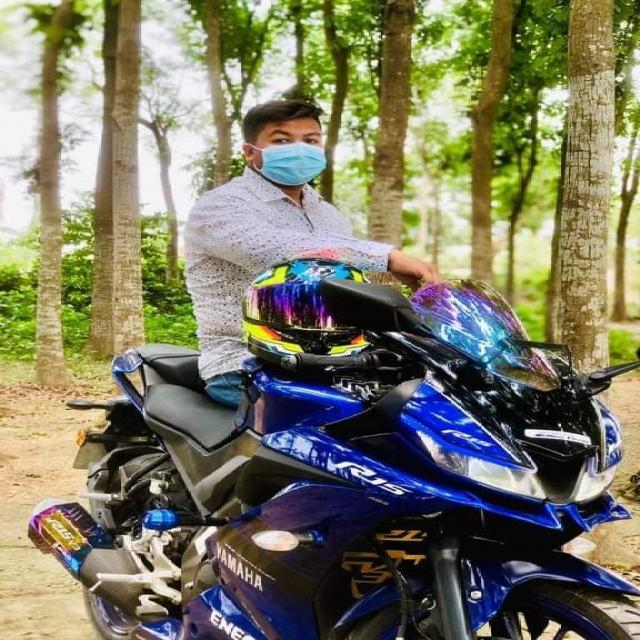No helmet: (235, 87, 339, 198)
